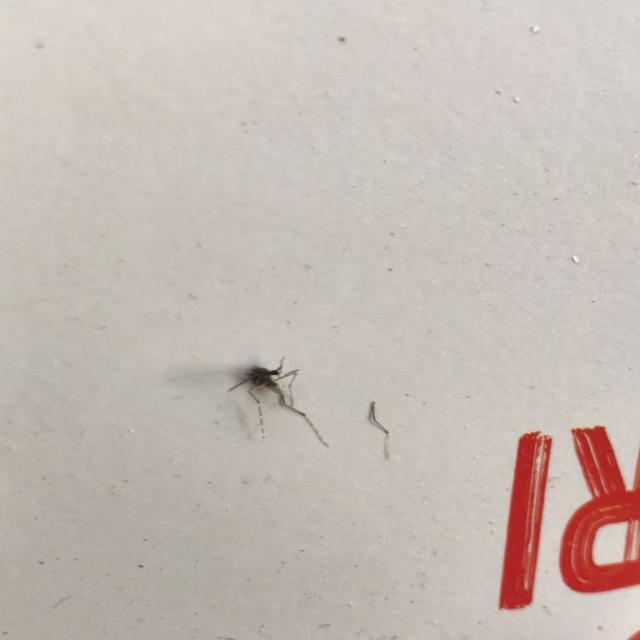albopictus: (218, 349, 328, 448)
